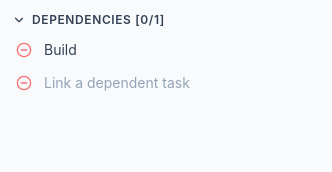
Test case: TaskDependencies › existing dependencies › collapses and expands
Click the button "Dependencies [0/1]": (88, 20) x1=12 y1=12 x2=165 y2=28
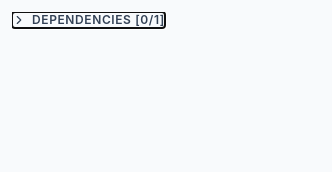
Expected: the link "Build" is gone
Click the button "Dependencies [0/1]": (88, 20) x1=12 y1=12 x2=165 y2=28
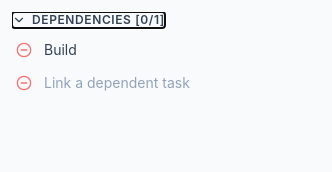
Expected: the link "Build" is shown, x1=44 y1=41 x2=77 y2=58
